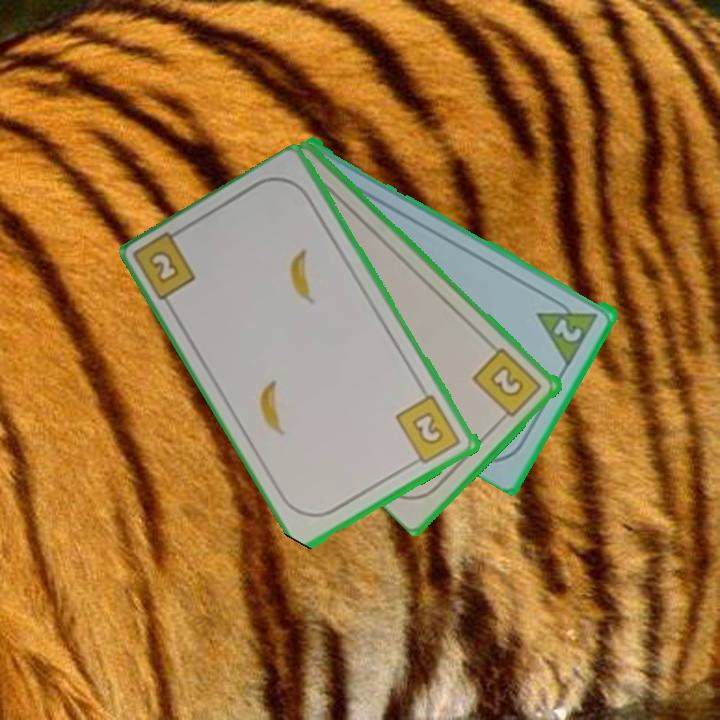2b: (469, 344, 546, 425), (392, 391, 464, 469), (145, 246, 183, 287)
2p: (534, 291, 602, 367)
